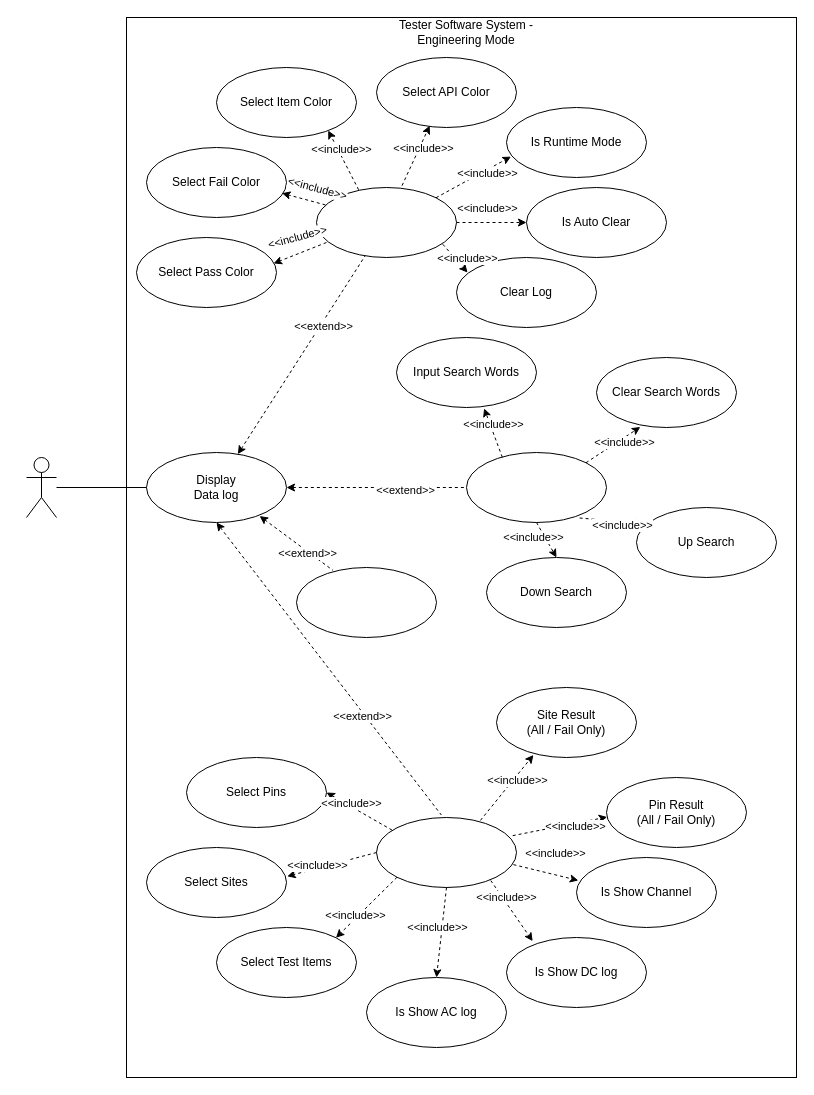
Some shapes in this 814 by 1095 pixel diagram are drawn without their labels. The centre of each missing label's shape, as x and y in pixels:
Engineer: point 41,487
Filter: point 446,852
Properties: point 386,222
Save As txt: point 366,602
Search: point 536,487
